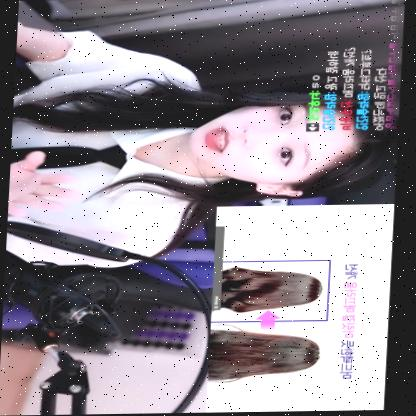streamer: (9, 15, 405, 269)
